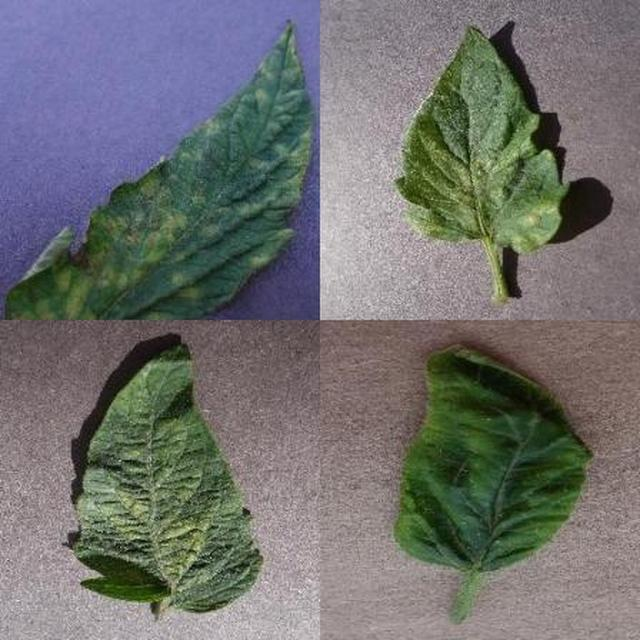Leaf Mold: (224, 198, 640, 640)
